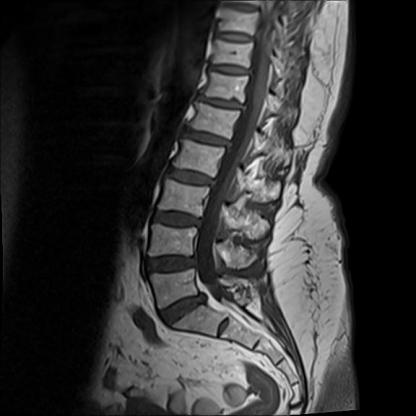Disc Bulgerotation: (158, 295, 216, 325)
Disc Relaxationrotation: (164, 164, 222, 189), (144, 252, 199, 278), (153, 206, 204, 232)
